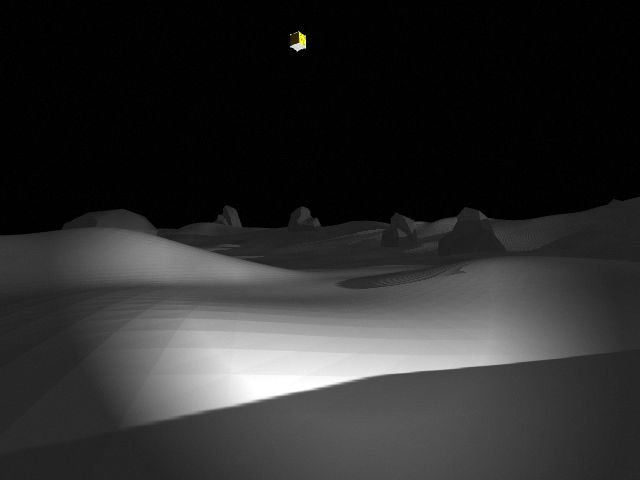cubesat: (281, 28, 311, 55)
